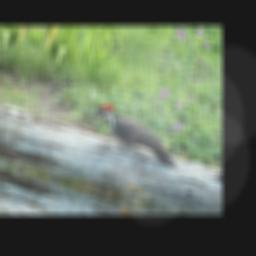Woodpecker: (79, 98, 191, 169)
